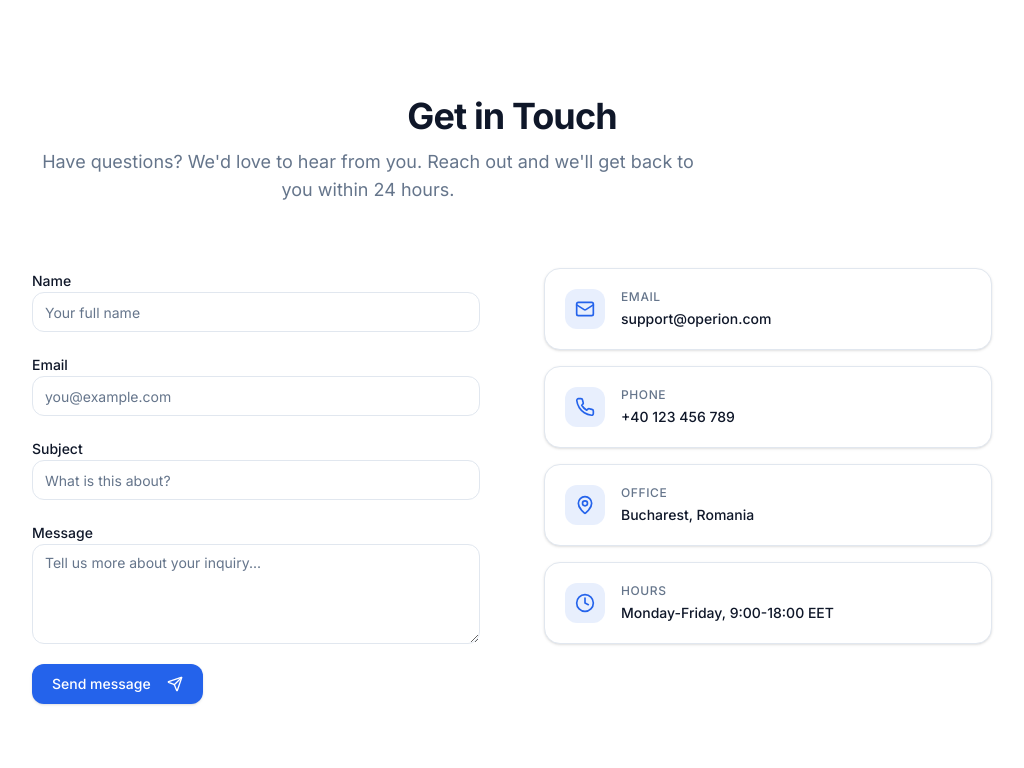
Test: ContactPage › shows sending state during submit
The image size is (1024, 768).
In the field labelled "Name": (256, 312) top-left (32, 292), bottom-right (480, 332), type "John Doe"
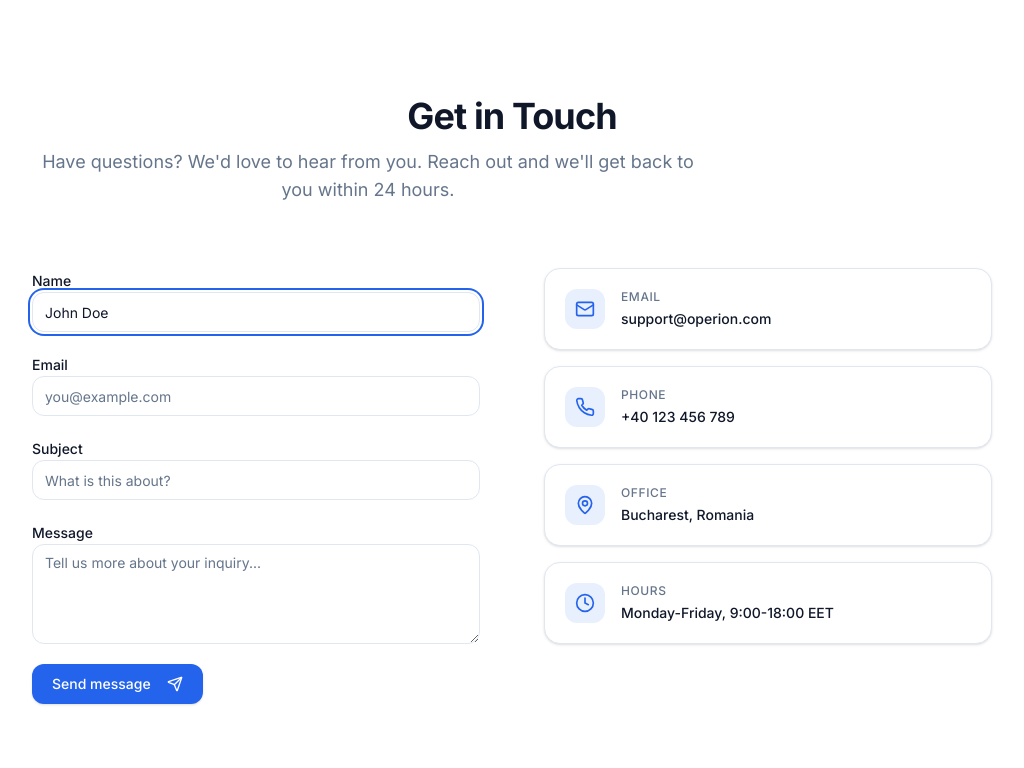
In the field labelled "Email": (256, 396) top-left (32, 376), bottom-right (480, 416), type "john@example.com"
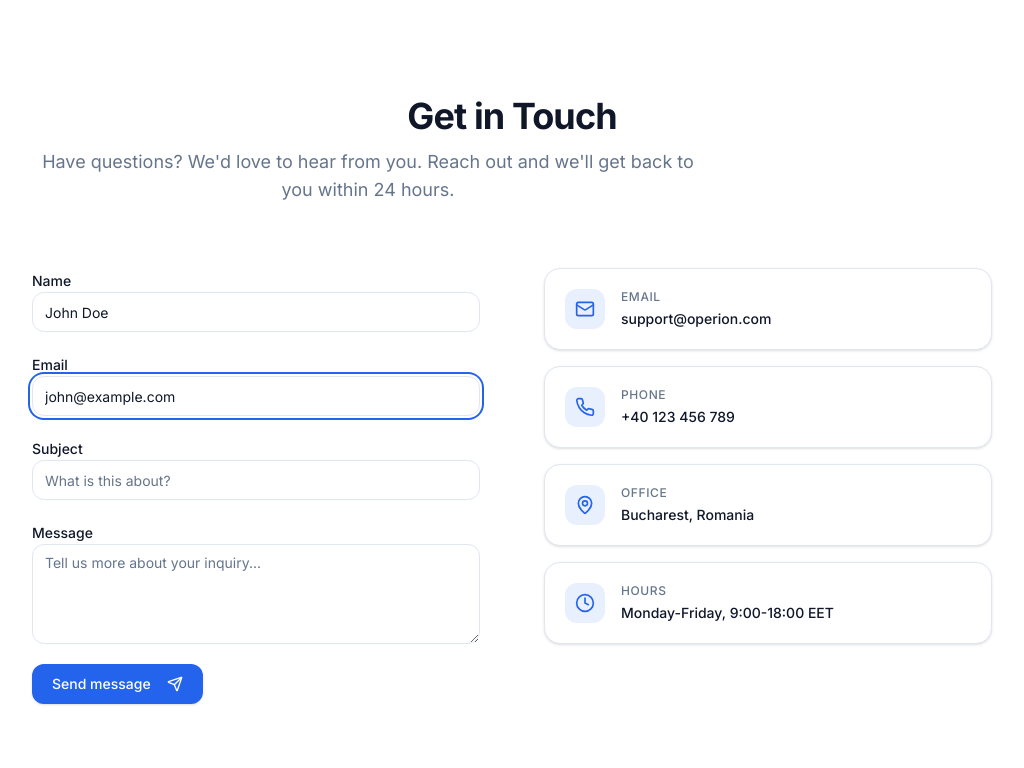
In the field labelled "Subject": (256, 480) top-left (32, 460), bottom-right (480, 500), type "Test subject here"
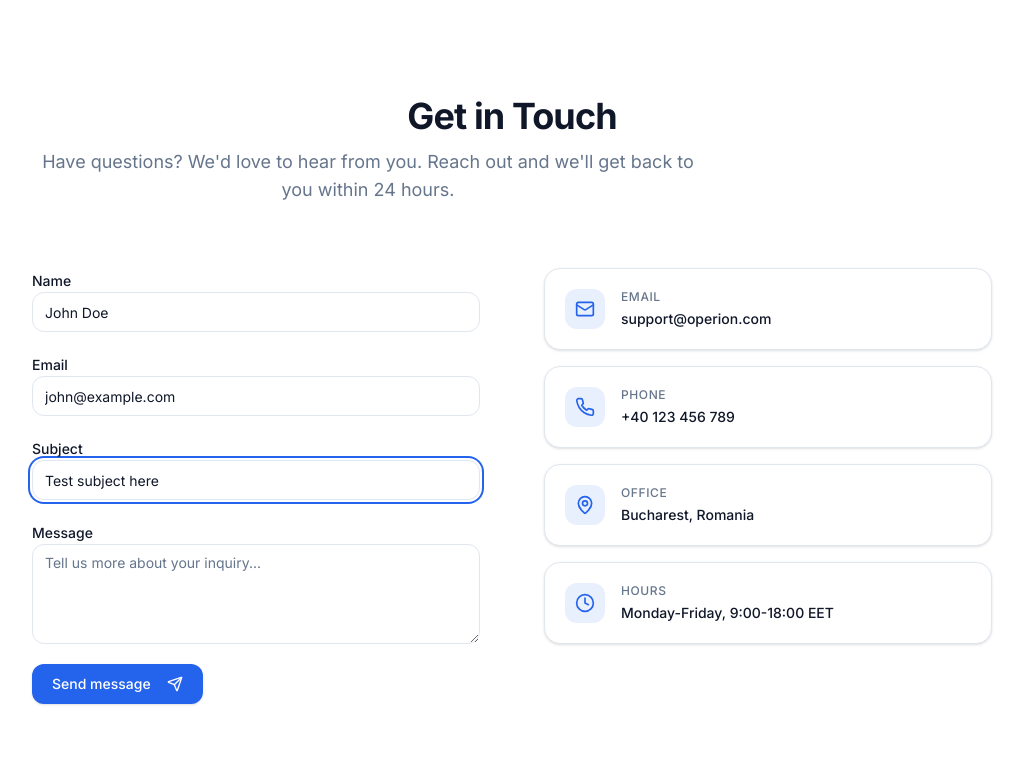
In the text box labelled "Message": (256, 594) top-left (32, 544), bottom-right (480, 644), type "This is a test message that is long enough."
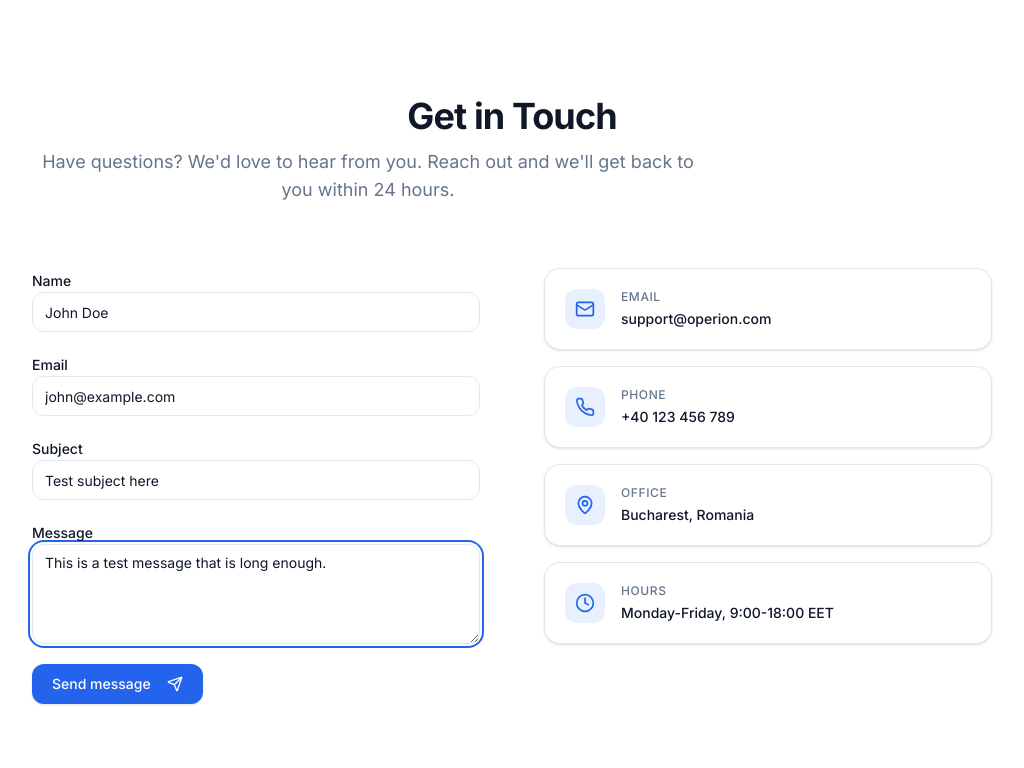
Click the button "Send message": click(117, 684) top-left (32, 664), bottom-right (203, 704)
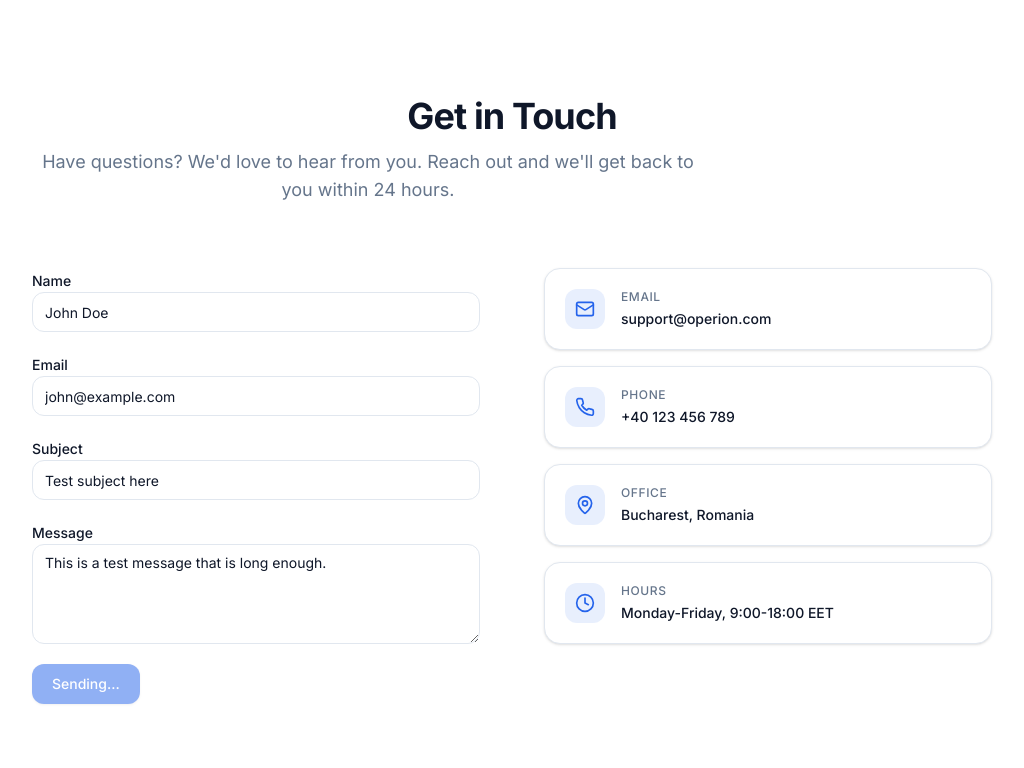
Expected: the button "Sending..." is shown, top-left (32, 664), bottom-right (140, 704)
